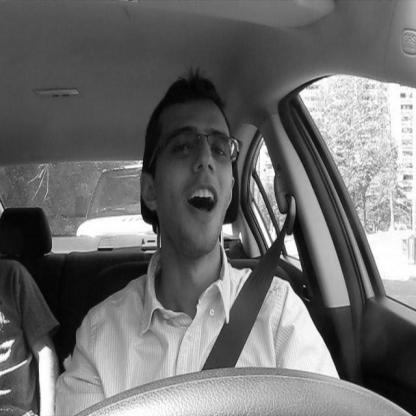seatbelt: (141, 40, 299, 387)
